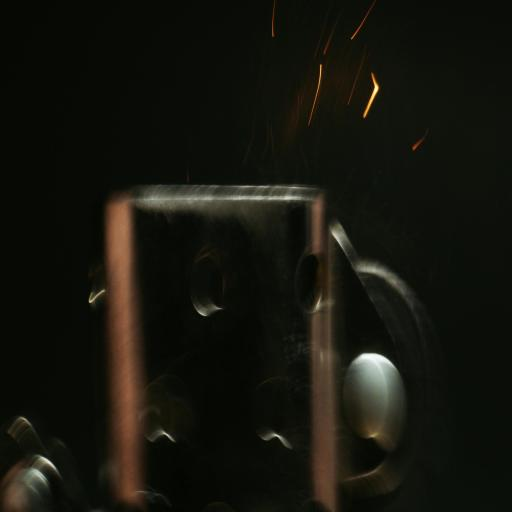lighter: (91, 154, 408, 512)
